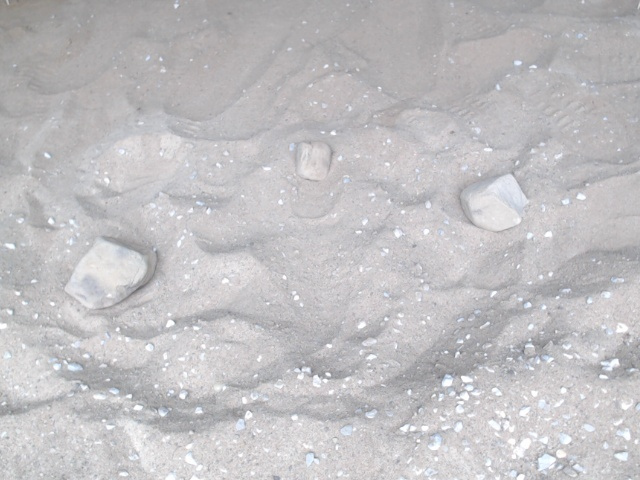rock: (59, 230, 162, 315), (455, 168, 533, 236), (291, 137, 335, 185)
